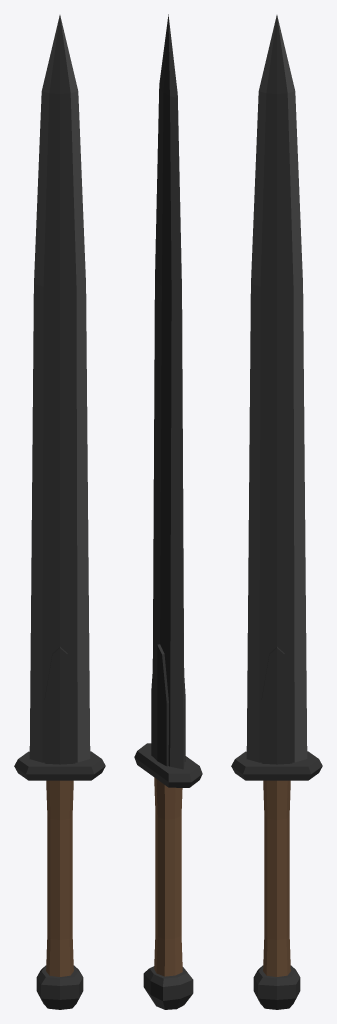
Rendered from sword.glb.
3 renders of one model, left to right at view 1: azimuth 90°, elevation 25°; view 2: azimuth 210°, elevation 25°; view 3: azimuth 270°, elevation 25°, orthographic.
Visible parts, largest first — view 1: sword; view 2: sword; view 3: sword.
Boxes of the visible parts, x1=… form: sword: x1=14, y1=15, x2=105, y2=1009; sword: x1=134, y1=14, x2=202, y2=1009; sword: x1=231, y1=15, x2=322, y2=1009.
Size of the model in its own units: 0.062 by 1.62 by 0.1363.
Materials: 1 (1 with a texture image).
